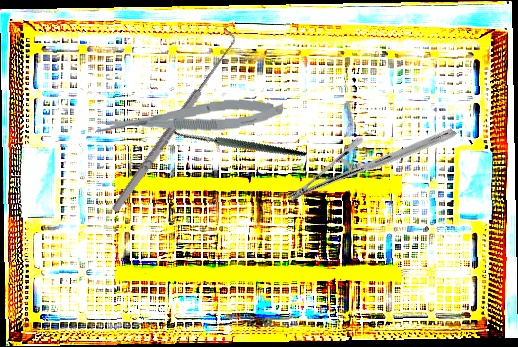Hook Surgical: (102, 28, 243, 215), (158, 77, 308, 217)
Micro Scissor: (93, 95, 285, 140)
Needle Holder: (287, 75, 457, 255)
